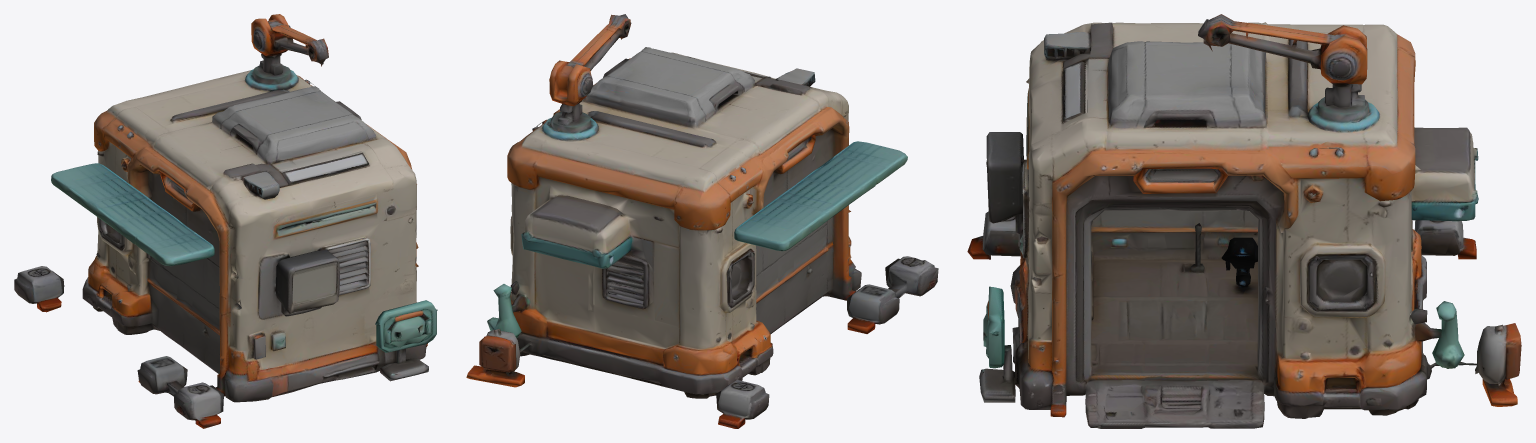
The model's file is baie.glb.
3 renders of one model, left to right at view 1: azimuth 30°, elevation 25°; view 2: azimuth 150°, elevation 25°; view 3: azimuth 270°, elevation 25°, orthographic. The views are drawn at different scales.
Parts seen in each view (by area): view 1: tripo_node_0c2a4b3c-c7c8-45c4-8f14-afcc52423e57; view 2: tripo_node_0c2a4b3c-c7c8-45c4-8f14-afcc52423e57; view 3: tripo_node_0c2a4b3c-c7c8-45c4-8f14-afcc52423e57.
Part boxes in pixels (box(x1,y1,x2,y2)): tripo_node_0c2a4b3c-c7c8-45c4-8f14-afcc52423e57: box(14, 14, 437, 428); tripo_node_0c2a4b3c-c7c8-45c4-8f14-afcc52423e57: box(466, 14, 938, 428); tripo_node_0c2a4b3c-c7c8-45c4-8f14-afcc52423e57: box(967, 14, 1521, 428).
Size of the model in its own units: 0.7755 by 0.7425 by 1.
Materials: 1 (1 with a texture image).
